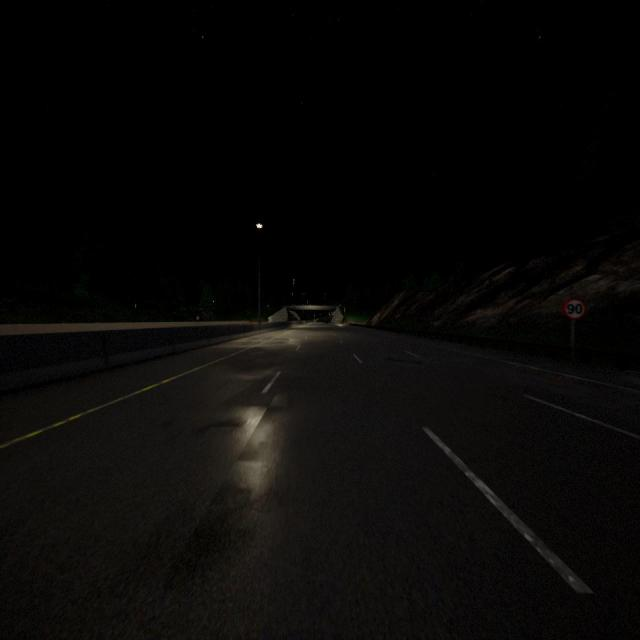Traffic_Signs: (562, 298, 586, 320), (196, 316, 200, 320)
